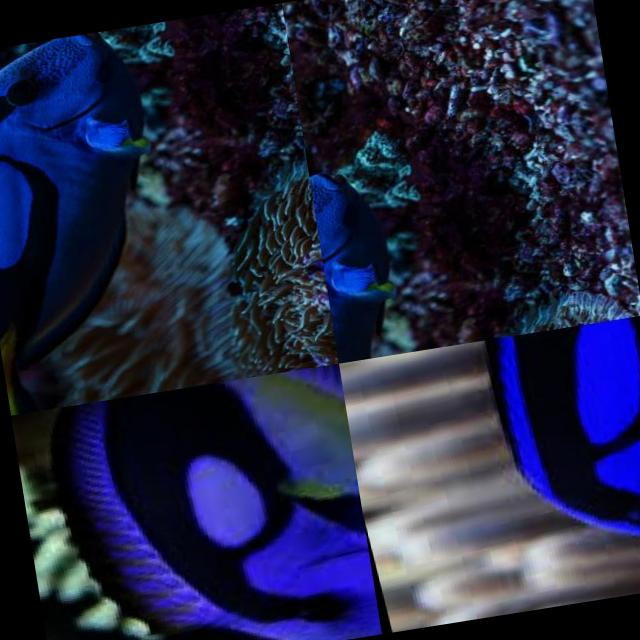BlueTang: (11, 362, 382, 640), (0, 29, 164, 372), (488, 314, 640, 570), (308, 160, 398, 362)
